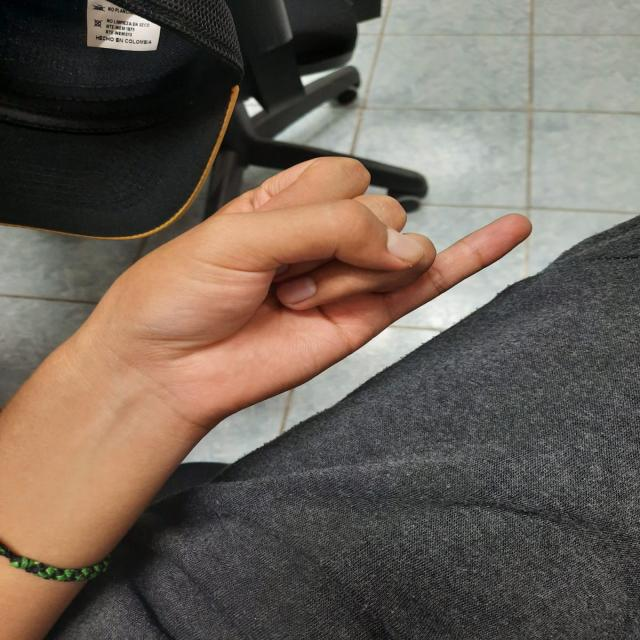Z: (48, 138, 556, 478)
